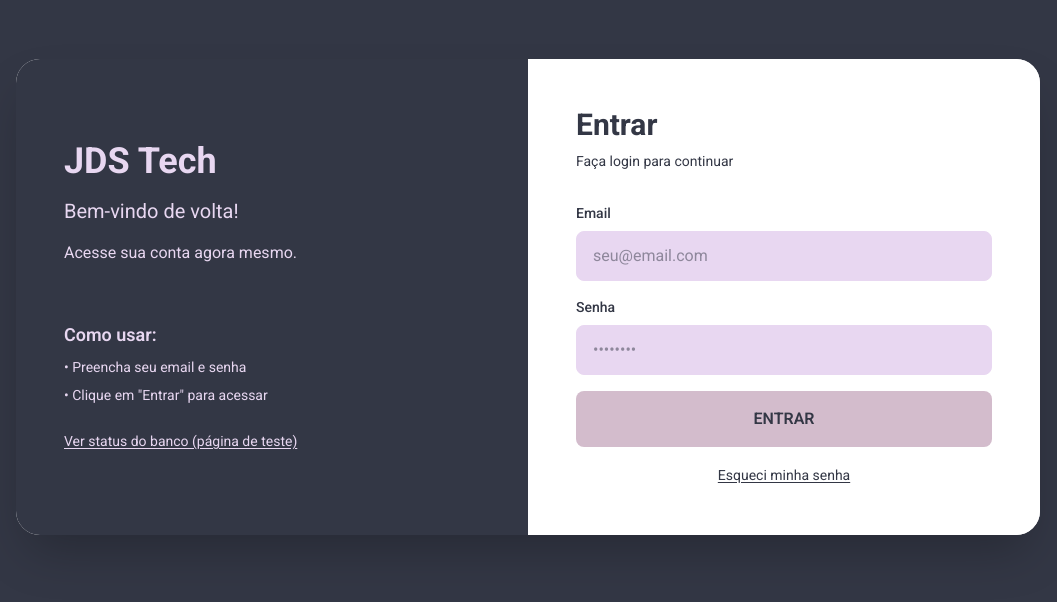
Test: LoginPage › Submissão do Formulário › deve mostrar erro quando credenciais são inválidas
The image size is (1057, 602).
Type "teste@email.com" into the field labelled "Email".
click(784, 256); type("teste@email.com")  # box [576,231,992,281]
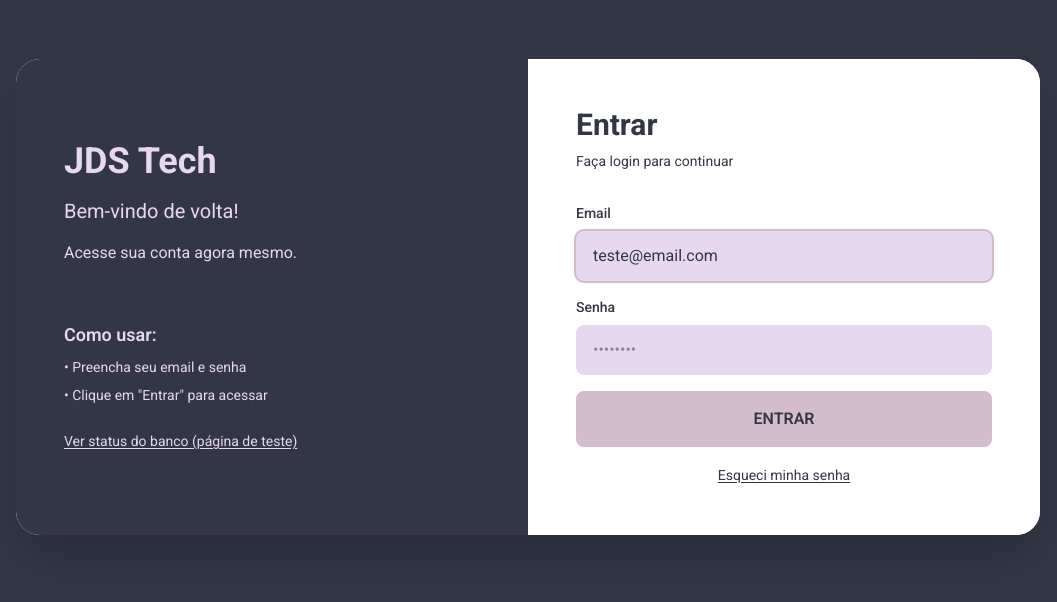
Type "senha123" into the password field labelled "Senha".
click(784, 350); type("senha123")  # box [576,325,992,375]
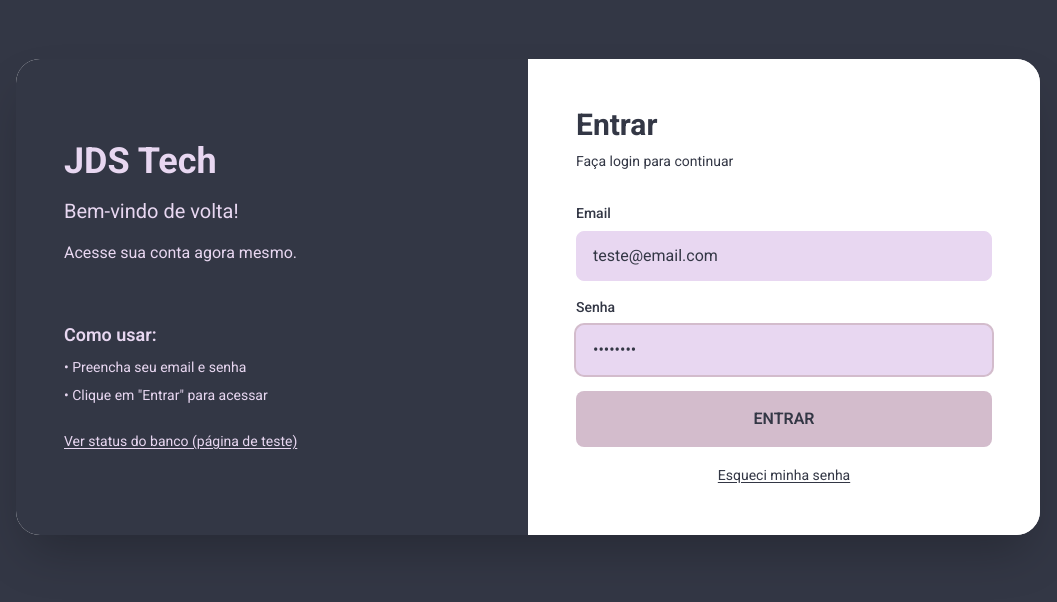
Click the button "ENTRAR".
click(784, 419)  # box [576,391,992,447]
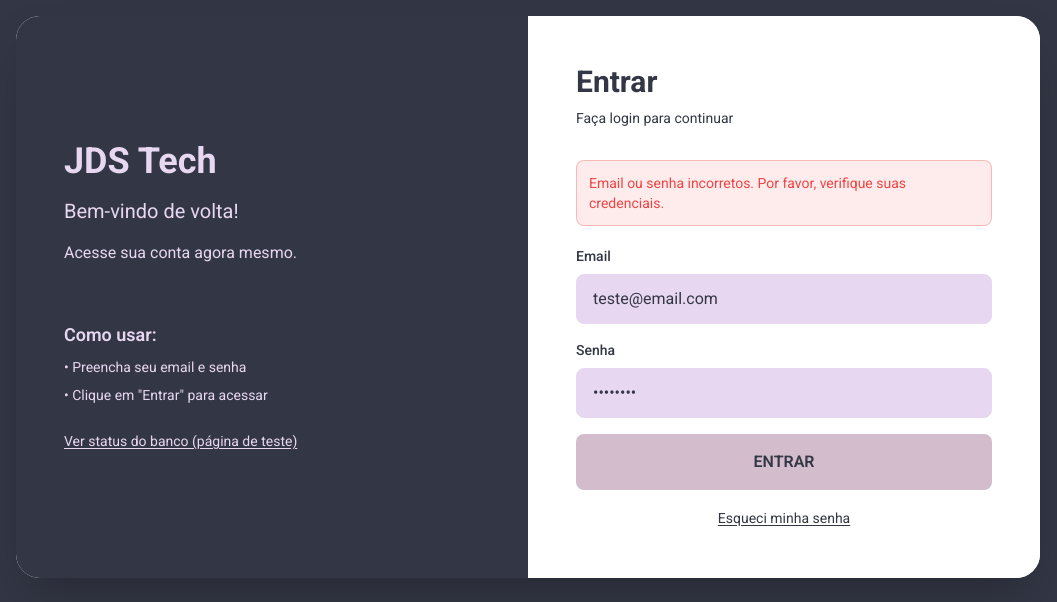
Now the text "Email ou senha incorretos. Por favor, verifique suas credenciais." is shown, box [589,175,906,211]
